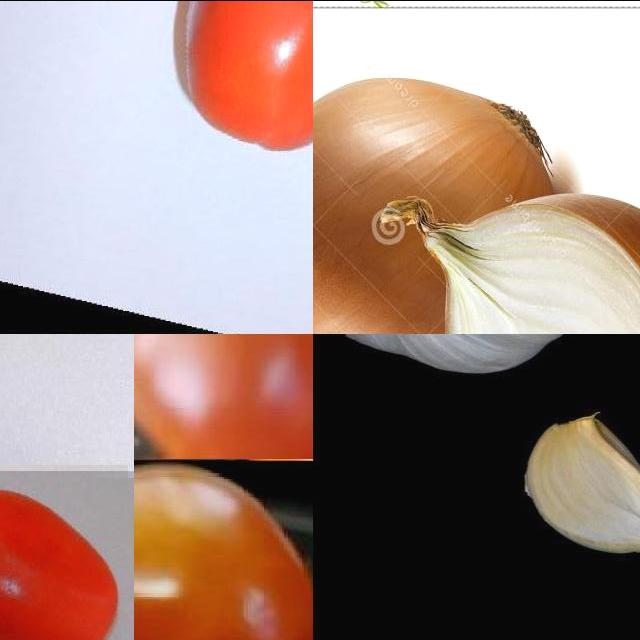garlic: (522, 408, 640, 555)
onion: (314, 77, 565, 334), (408, 189, 640, 334)
tomato: (135, 460, 314, 640), (135, 334, 314, 511), (159, 1, 314, 169), (1, 471, 135, 640)
